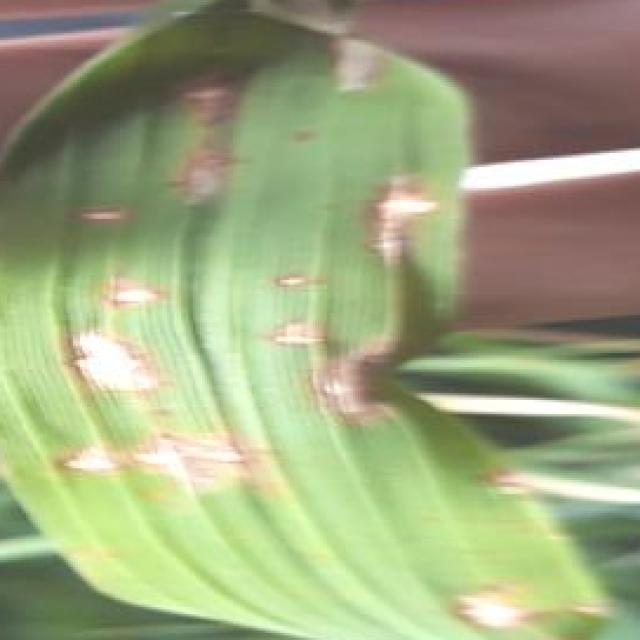Leaf_Blast: (266, 329, 428, 445), (125, 410, 287, 510), (162, 124, 282, 240), (44, 308, 162, 414), (451, 557, 595, 640), (358, 155, 442, 273), (24, 400, 124, 492), (457, 440, 567, 520), (231, 301, 327, 379), (240, 230, 341, 304), (66, 258, 176, 318), (184, 56, 262, 138), (44, 177, 124, 247)
